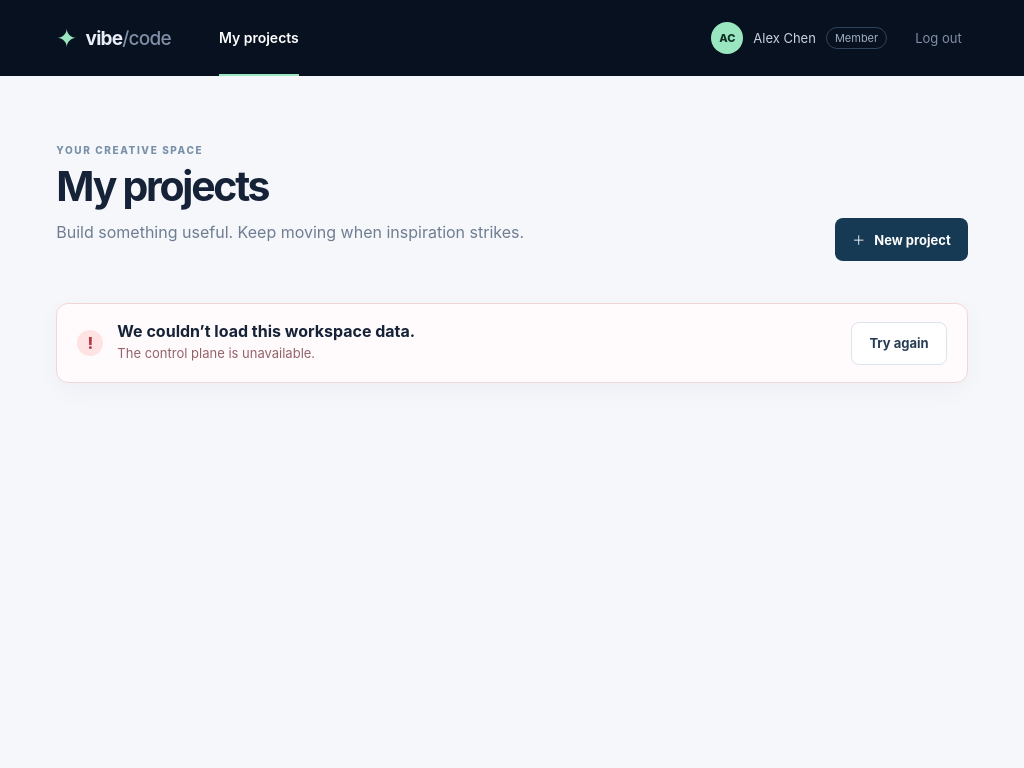
portal entry journey › clears the portal session on logout
Click the button "Log out" at (938, 38), box [909, 29, 968, 47]
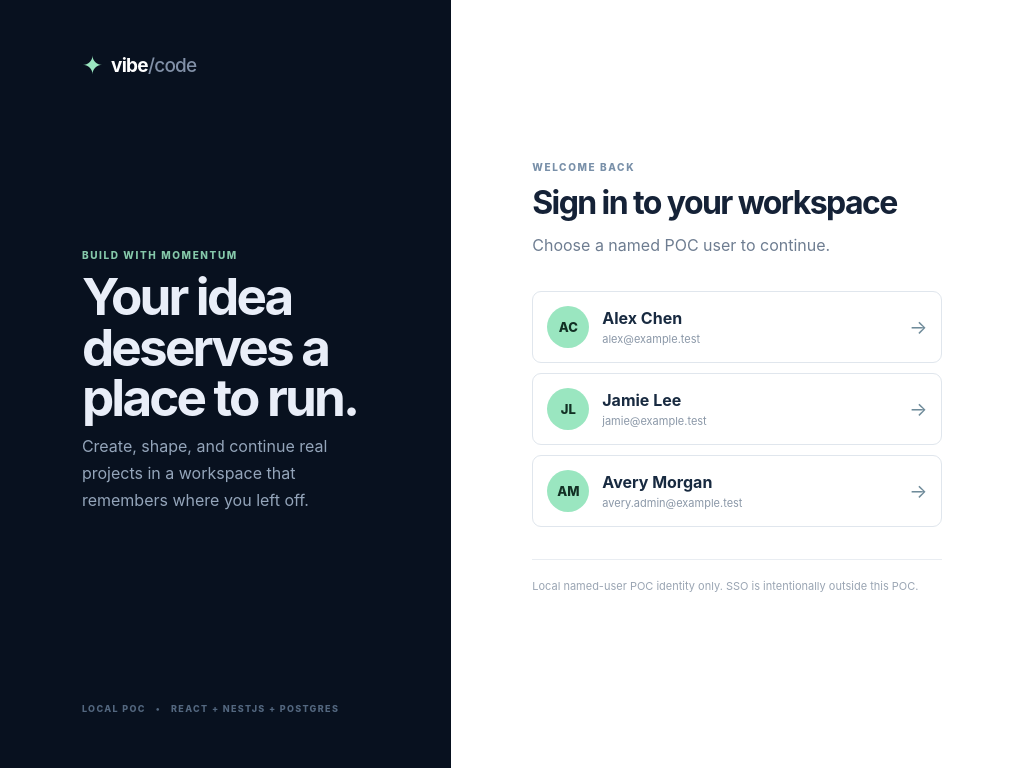
Result: the heading "Sign in to your workspace" is shown at [532, 183, 942, 222]
